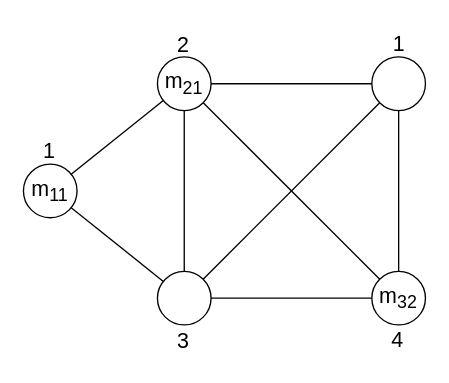
The diagram is 449 pixels wide and 383 high, and some of its shapes have lost their labels. The centre of each missing label's shape, as x and y in pixels:
"m 22" belongs at point (183, 297).
"m 31" belongs at point (398, 83).
